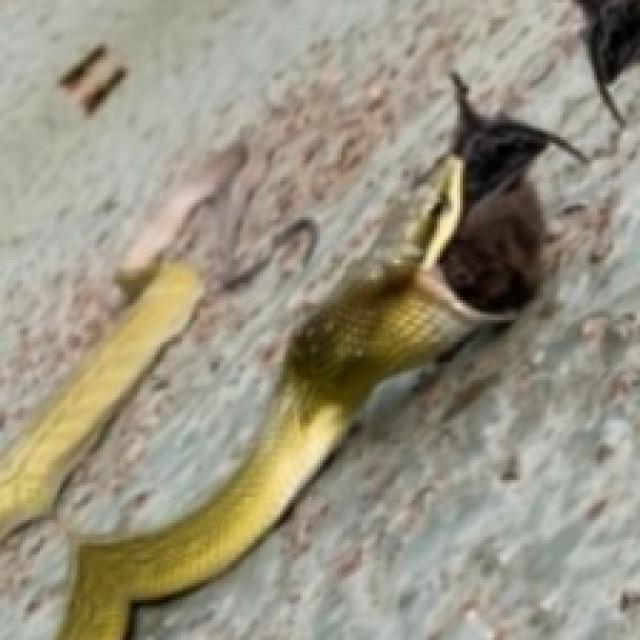red-tailed green ratsnake: (57, 154, 511, 637), (0, 257, 203, 534)
